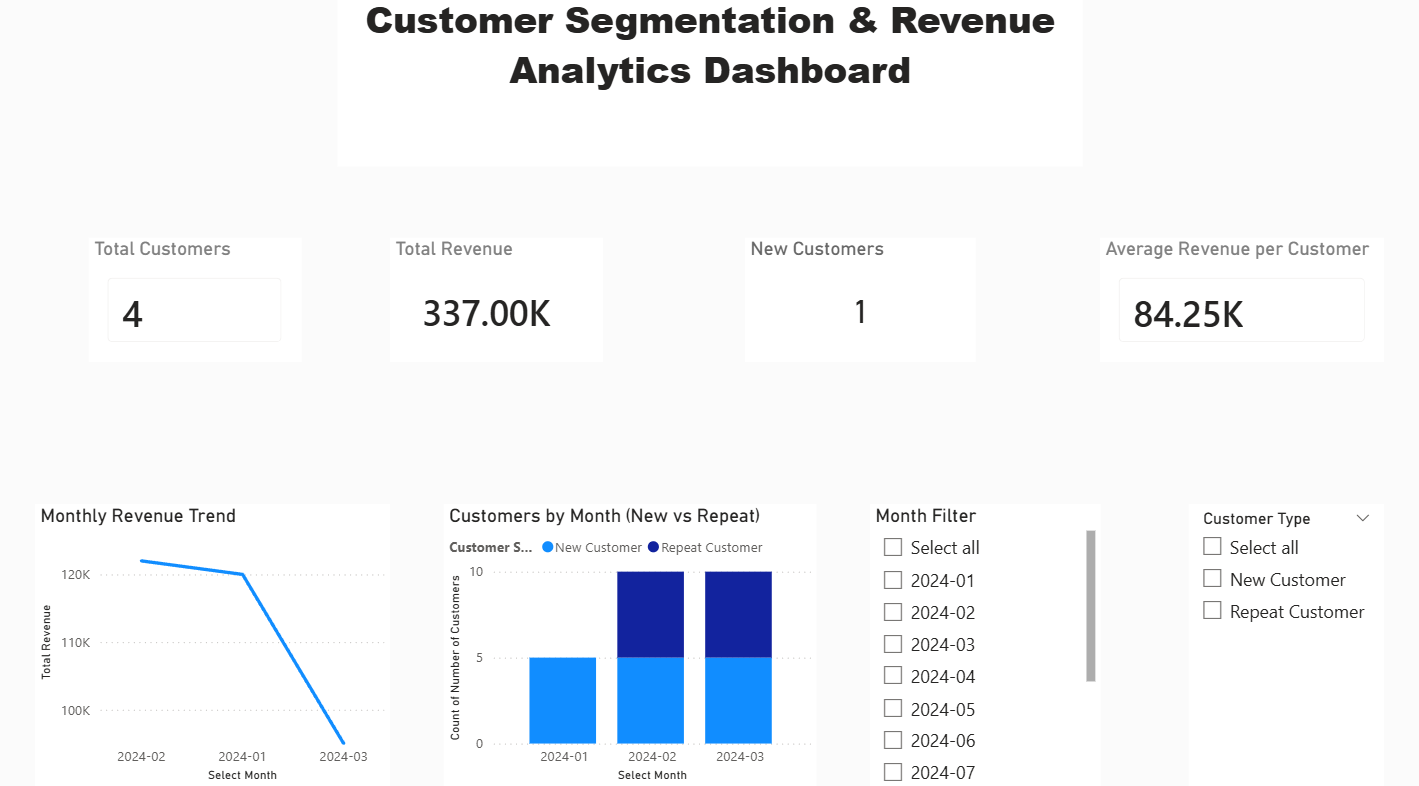

What the dashboard file says about the page in this screenshot:
{"tool":"powerbi","page":{"name":"Page 1","canvas":[1280,720],"ordinal":0},"visuals":[{"type":"lineChart","title":"Monthly Revenue Trend","fields":{"Category":["Date.Year-Month"],"Y":["Date.Total Revenue"]},"box":[32,464,320,256],"z":0},{"type":"cardVisual","title":"Total Revenue","fields":{"Data":["Date.Total Revenue"]},"box":[352,224,192,96],"z":1000},{"type":"slicer","title":"Month Filter","fields":{"Values":["Date.Year-Month"]},"box":[784,464,208,256],"z":2000},{"type":"columnChart","title":"Customers by Month (New vs Repeat)","fields":{"Category":["Date.Year-Month"],"Series":["customers orders.Customer Type"],"Y":["Count(customers customers.customer_id)"]},"box":[400,464,336,256],"z":3000},{"type":"kpi","title":"New Customers ","fields":{"Indicator":["Date.New Customers"],"TrendLine":["Date.Date"]},"box":[672,224,208,96],"z":4000},{"type":"cardVisual","title":"Average Revenue per Customer","fields":{"Data":["Date.Avg Revenue per Customer"]},"box":[992,224,256,96],"z":5000},{"type":"cardVisual","title":"Total Customers","fields":{"Data":["Date.Total Customers"]},"box":[80,224,192,96],"z":6000},{"type":"slicer","fields":{"Values":["customers orders.Customer Type"]},"box":[1072,464,176,256],"z":7000},{"type":"textbox","box":[304,0,672,160],"z":8000}]}

Visuals, with their boxes in screenshot pixels (x1, y1, x2, y2), scaled from the page's 1280x720 canvas onto the 1419x786 screenshot:
"Monthly Revenue Trend" lineChart: left=35, top=507, right=390, bottom=785
"Total Revenue" cardVisual: left=390, top=245, right=603, bottom=349
"Month Filter" slicer: left=869, top=507, right=1100, bottom=785
"Customers by Month (New vs Repeat)" columnChart: left=443, top=507, right=816, bottom=785
"New Customers " kpi: left=745, top=245, right=976, bottom=349
"Average Revenue per Customer" cardVisual: left=1100, top=245, right=1384, bottom=349
"Total Customers" cardVisual: left=89, top=245, right=302, bottom=349
slicer - customers orders.Customer Type: left=1188, top=507, right=1384, bottom=785
textbox: left=337, top=0, right=1082, bottom=175
